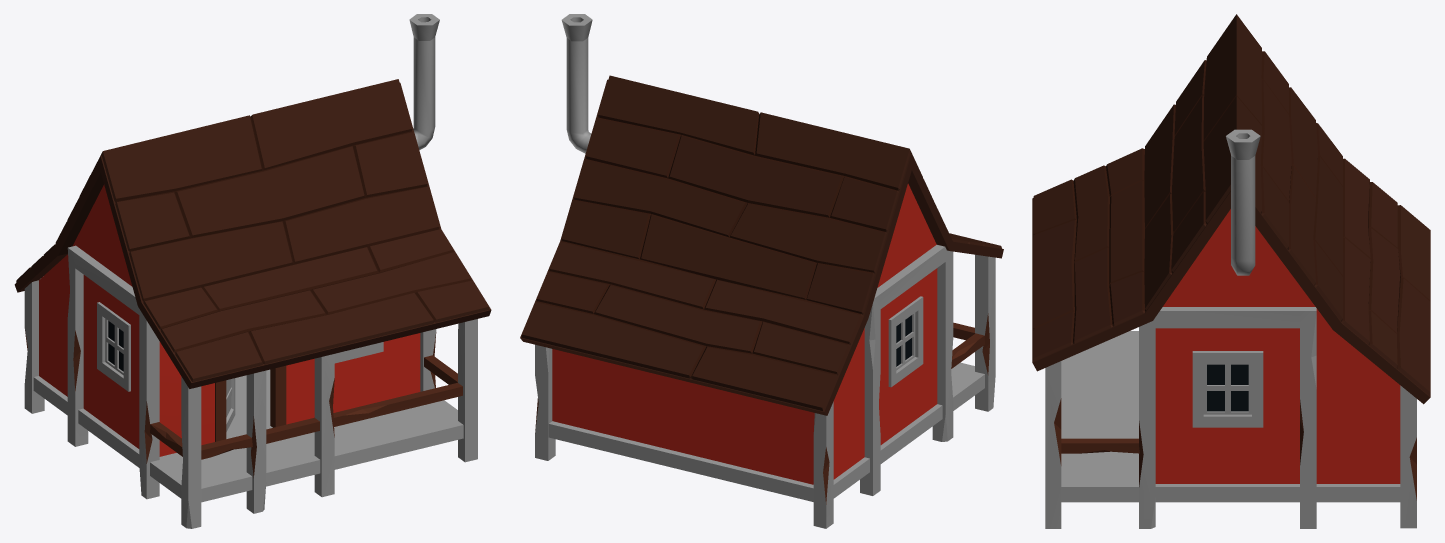
File: House_5_1.fbx
3 renders of one model, left to right at view 1: azimuth 30°, elevation 25°; view 2: azimuth 150°, elevation 25°; view 3: azimuth 270°, elevation 25°, orthographic. The views are drawn at different scales.
Visible parts, largest first — view 1: House_5_1; view 2: House_5_1; view 3: House_5_1.
Part boxes in pixels (x1,y1,x2,y2): House_5_1: [14, 14, 491, 528]; House_5_1: [520, 14, 1003, 528]; House_5_1: [1032, 14, 1430, 528].
Size of the model in its own units: 178 by 185 by 162.
